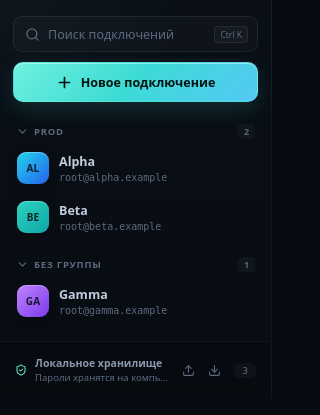
Test: Sidebar › фильтрует профили и показывает отсутствие результатов
In the field labelled "Поиск подключений": (126, 34) 46,24 -> 206,44, type "beta.example"
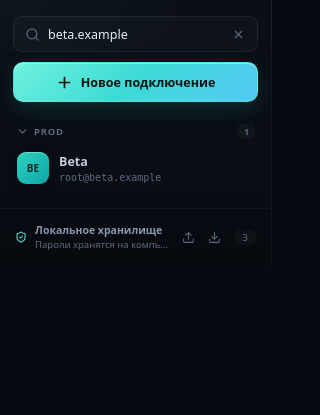
Expected: the text "Beta" is shown, 59,153 -> 88,170
Now the button "Alpha" is gone
Replace the text in the field named "Поиск подключений" with "zzz": (134, 34) 46,24 -> 222,44
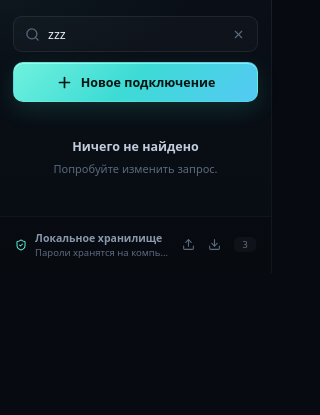
Now the text "Ничего не найдено" is shown, box 72,138 -> 199,155
Replace the text in the field named "Поиск подключений" with "beta": (134, 34) 46,24 -> 222,44
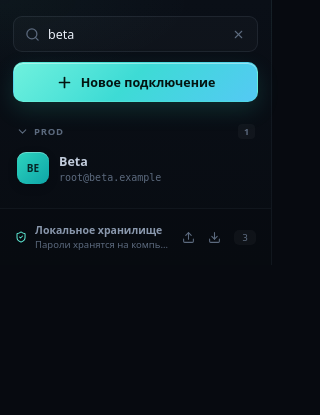
Click the button named "Очистить поиск": (237, 34) 226,23 -> 248,45
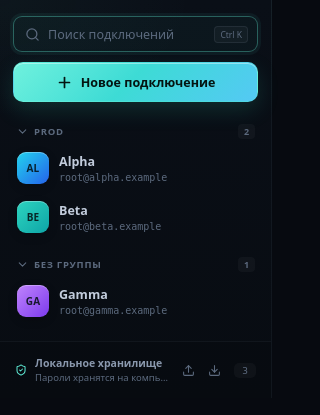
Now the text "Alpha" is shown, box 59,153 -> 95,170
